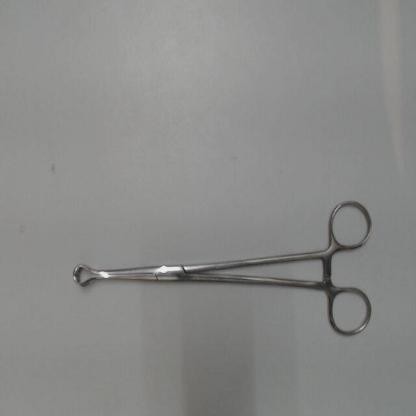8 Babcock Tissue Forceps: (67, 190, 378, 345)
